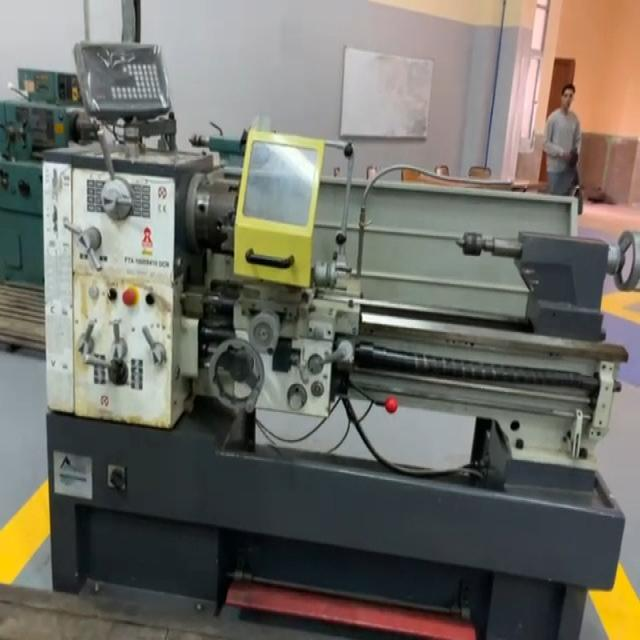tour parallele: (42, 43, 640, 638)
